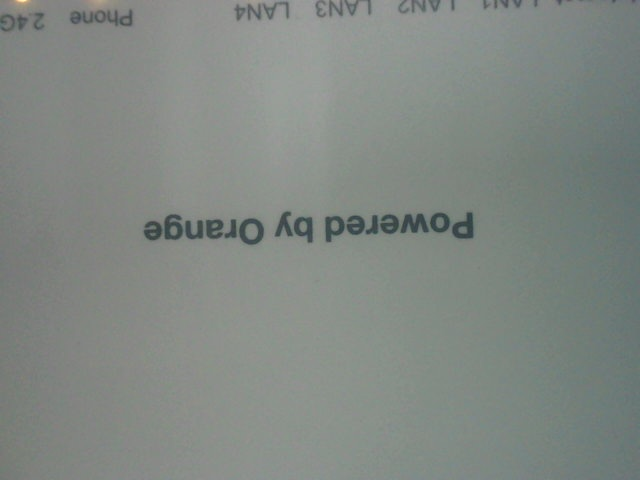AS_PowerByOrange: (124, 189, 493, 255)
